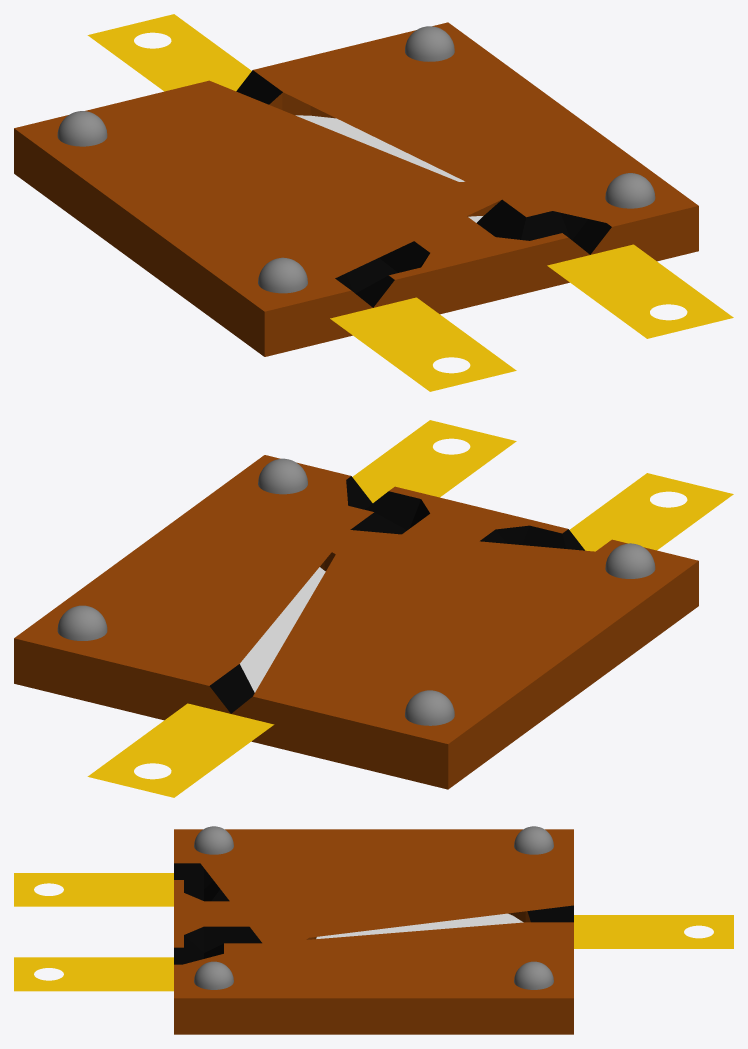
File: logic_gate_xor.fbx
3 renders of one model, top to bottom at view 1: azimuth 30°, elevation 25°; view 2: azimuth 150°, elevation 25°; view 3: azimuth 270°, elevation 25°, orthographic. The views are drawn at different scales.
Visible parts, largest first — view 1: logic gate xor; view 2: logic gate xor; view 3: logic gate xor.
Boxes of the visible parts, x1,y1,x2,y2 form: logic gate xor: (14, 14, 733, 391); logic gate xor: (14, 420, 733, 797); logic gate xor: (14, 826, 733, 1034).
Bounding box in the file's own units: 200 × 30 × 360.
